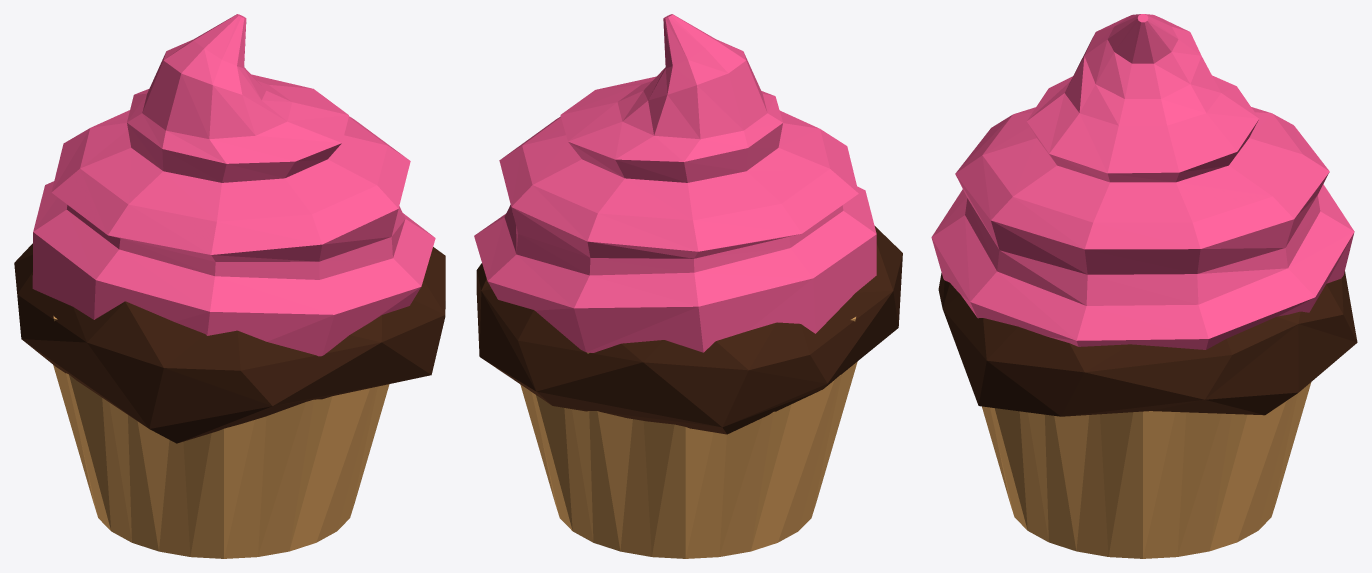
Rendered from Cupcake.obj.
The picture shows the model from 3 angles, left to right: view 1: azimuth 30°, elevation 25°; view 2: azimuth 150°, elevation 25°; view 3: azimuth 270°, elevation 25°; orthographic projection. The views are drawn at different scales.
Visible parts, largest first — view 1: Cupcake_Pink, Cupcake_LightYellow, Cupcake_DarkBrown; view 2: Cupcake_Pink, Cupcake_LightYellow, Cupcake_DarkBrown; view 3: Cupcake_Pink, Cupcake_LightYellow, Cupcake_DarkBrown.
Part boxes in pixels (box(x1,y1,x2,y2)): Cupcake_Pink: box(32, 14, 435, 356); Cupcake_LightYellow: box(53, 316, 389, 558); Cupcake_DarkBrown: box(14, 243, 445, 443); Cupcake_Pink: box(474, 14, 876, 352); Cupcake_LightYellow: box(520, 317, 857, 558); Cupcake_DarkBrown: box(476, 226, 902, 434); Cupcake_Pink: box(931, 14, 1354, 349); Cupcake_LightYellow: box(982, 382, 1311, 558); Cupcake_DarkBrown: box(938, 271, 1357, 416).
Bounding box in the file's own units: 0.7342 × 0.9316 × 0.7258.
